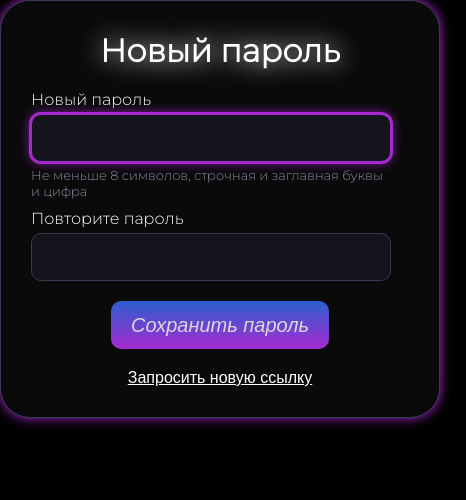
ResetPasswordForm › explains a used or expired link
The width and height of the screenshot is (466, 500).
Type "White2Rabbit" into the password field labelled "Новый пароль" at [211, 138], box [31,114,391,162]
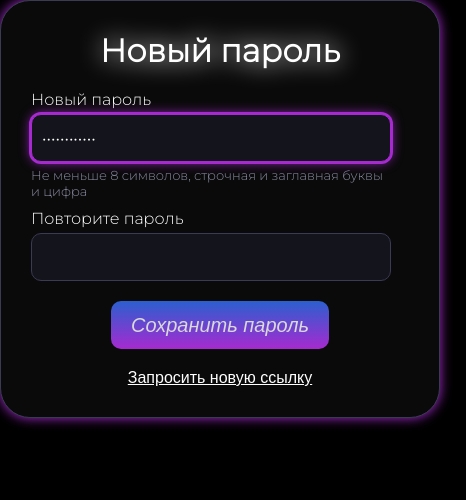
Type "White2Rabbit" into the password field labelled "Повторите пароль" at [211, 257], box [31,233,391,281]
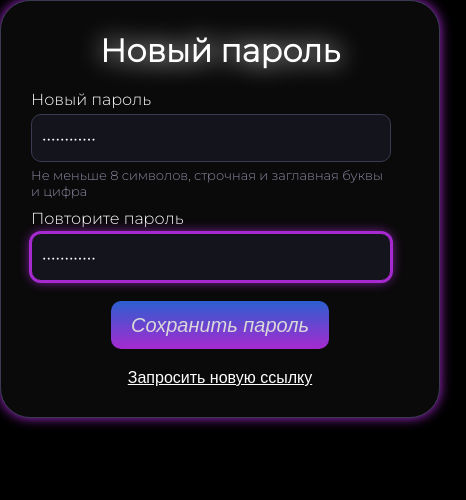
Click the button "Сохранить пароль" at [220, 325], box [111,301,329,349]
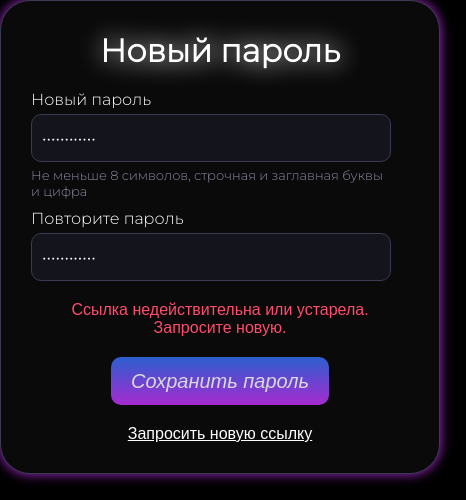
Check: the message reads "Ссылка недействительна или устарела. Запросите новую.", box [71,301,369,336]
